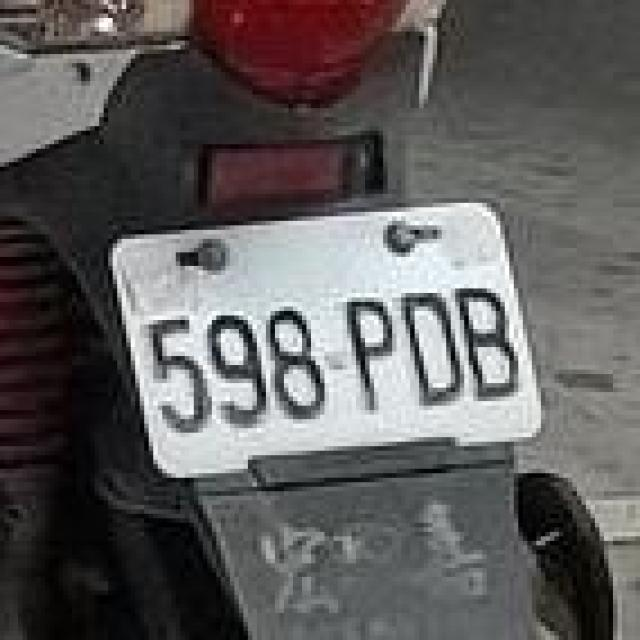W: (95, 180, 559, 478)
